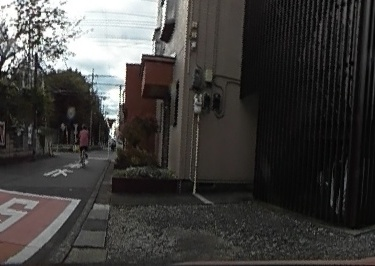person: (75, 122, 90, 163)
